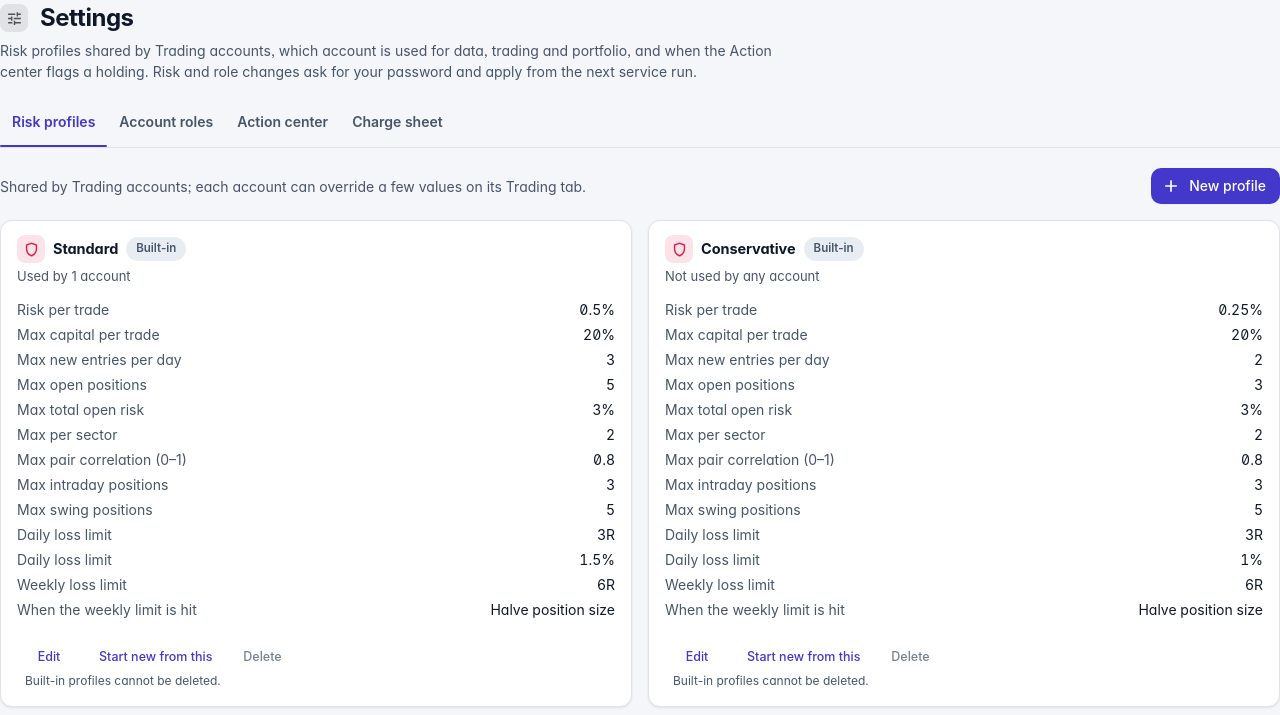
Test: Settings: Action center thresholds › is a tab of Settings, kept in the URL
What coordinates should you click on to do the following:
click the tab "Action center"
I would click on:
 (283, 122)
Its box is x1=225 y1=100 x2=340 y2=144.
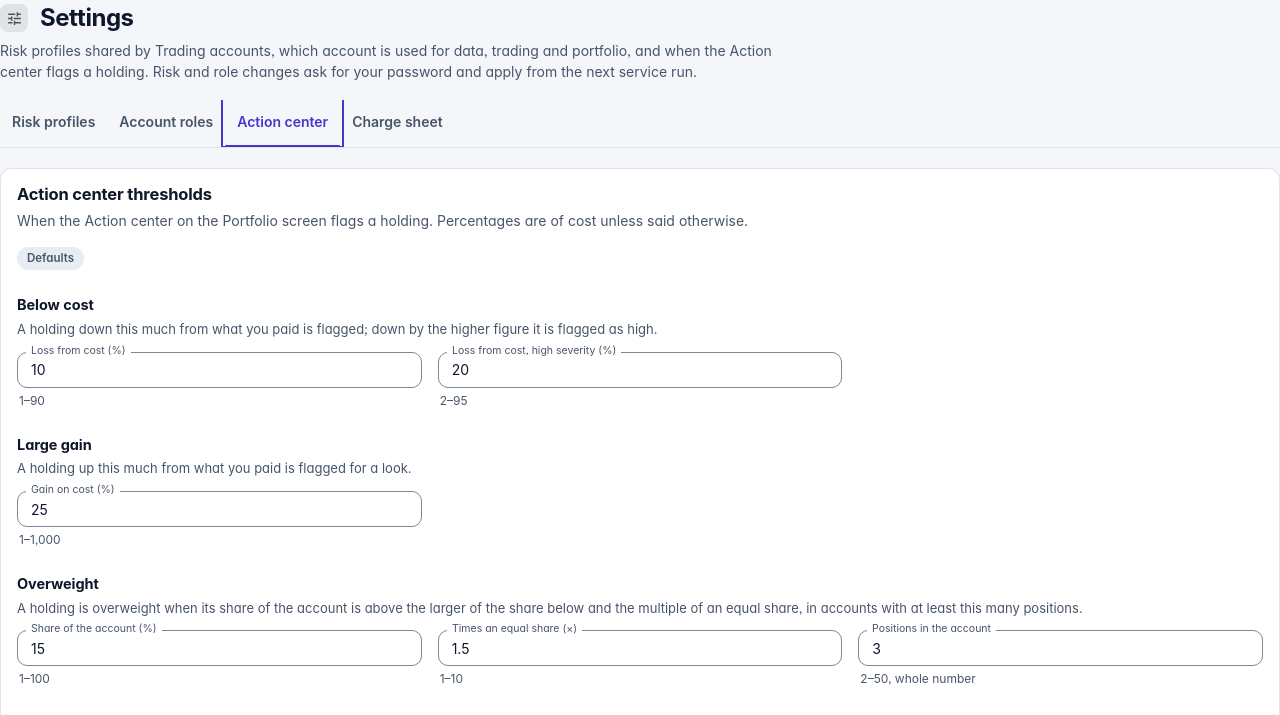
expect the heading "Action center thresholds" is shown: met, box x1=17 y1=184 x2=212 y2=204
